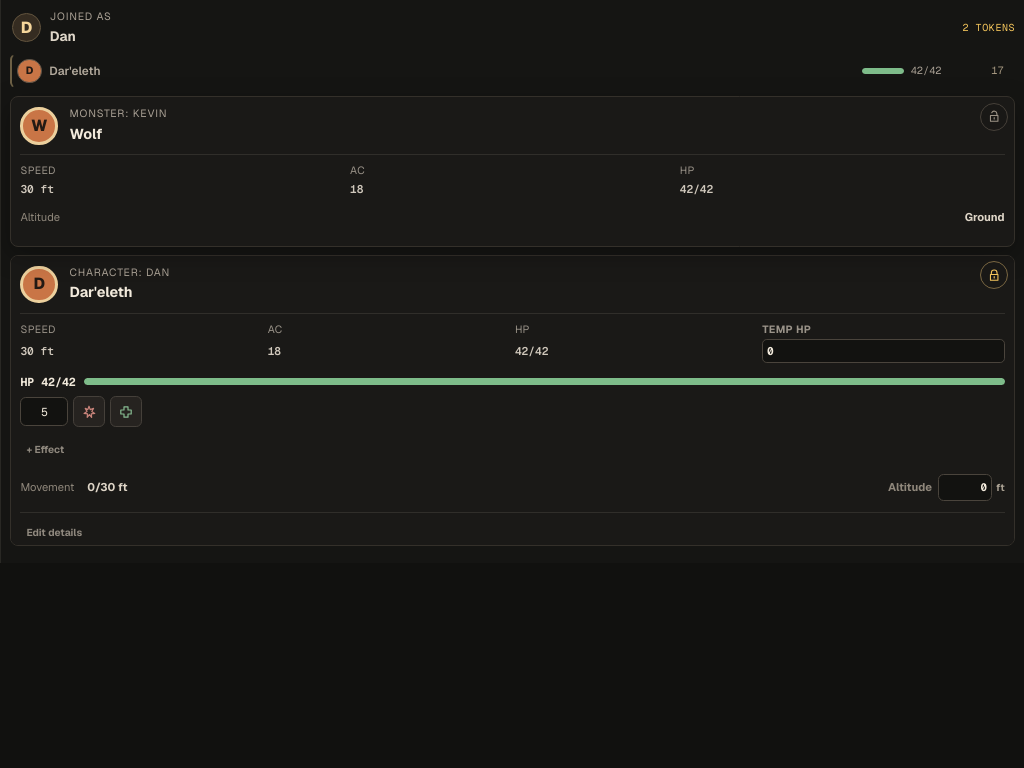
Test: EncounterSidebar initiative disclosure › defaults the player's character lock below a selection and lets the player replace it
Expected: the button named "Unlock Dar'eleth card" is shown, x1=980 y1=261 x2=1008 y2=289
Step 1. Click the button named "Lock Wolf card" → (994, 117), box x1=980 y1=103 x2=1008 y2=131
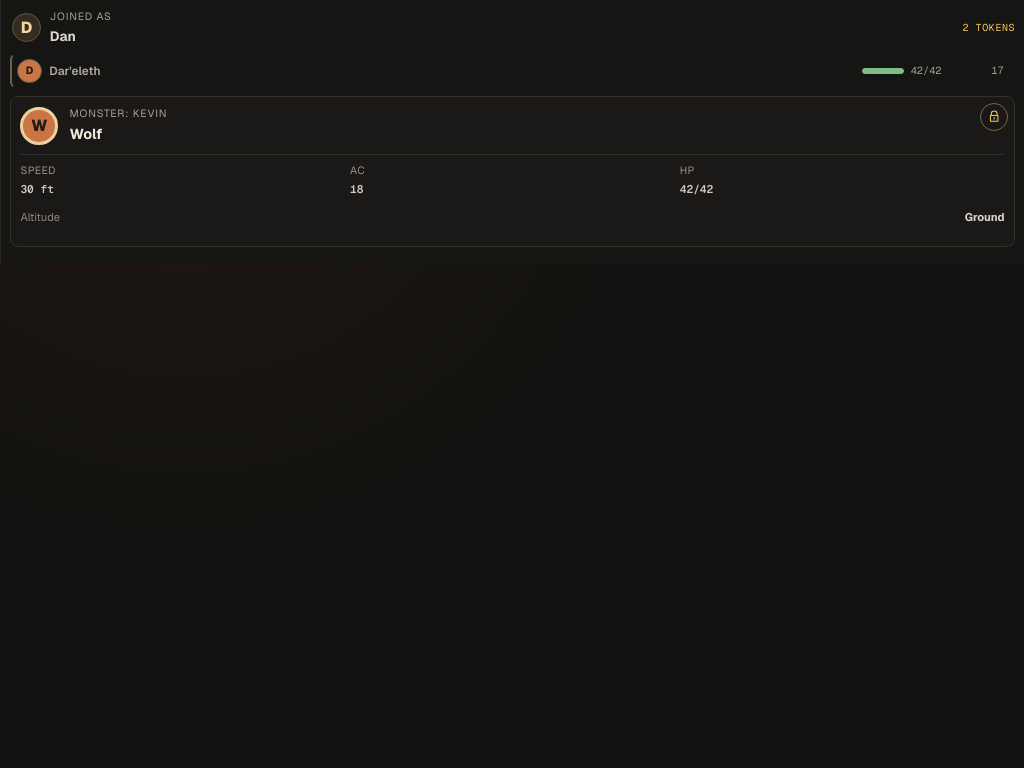
Expected: the button named "Unlock Wolf card" is shown, x1=980 y1=103 x2=1008 y2=131
